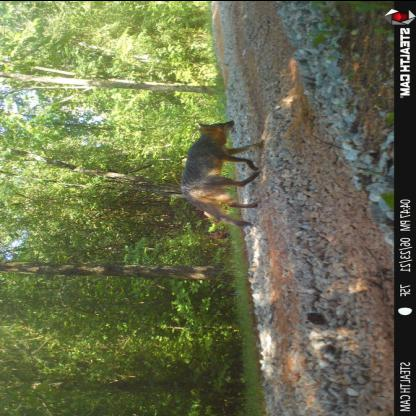zorro: (178, 116, 270, 232)
